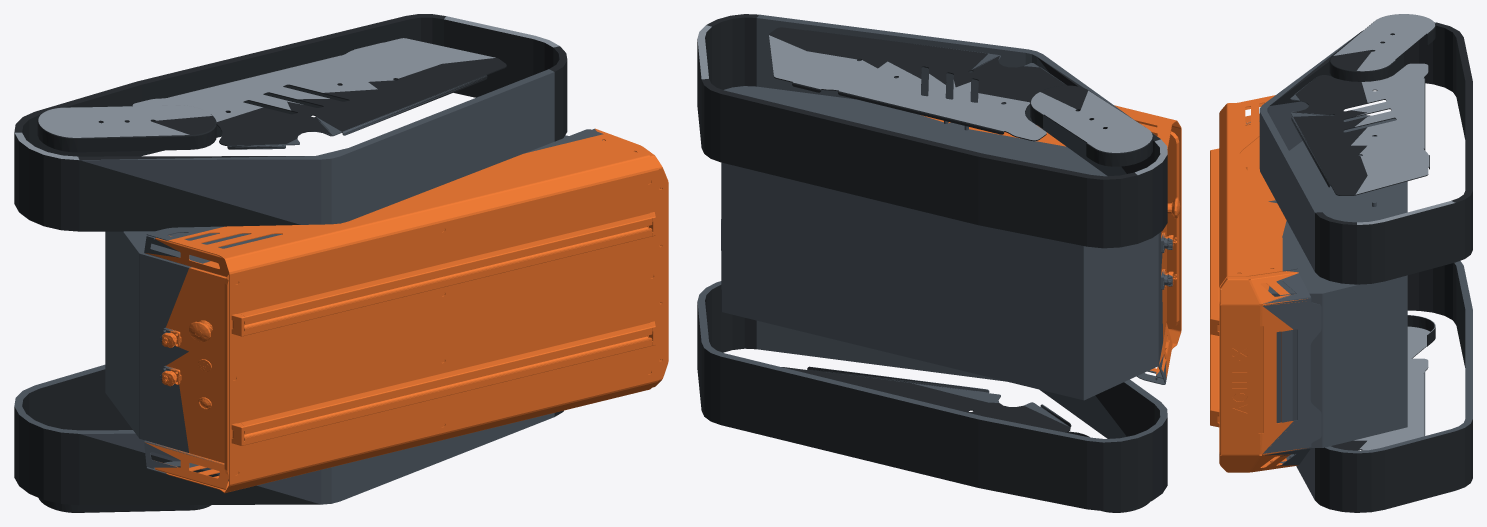
The model's file is bunker_chassis.glb.
3 views of the same model, side by side, from view 1: azimuth 30°, elevation 25°; view 2: azimuth 150°, elevation 25°; view 3: azimuth 270°, elevation 25° (orthographic). The views are drawn at different scales.
Parts seen in each view (by area): view 1: bunker_chassis; view 2: bunker_chassis; view 3: bunker_chassis.
Boxes of the visible parts, x1,y1,x2,y2 form: bunker_chassis: [14, 14, 668, 512]; bunker_chassis: [697, 14, 1181, 512]; bunker_chassis: [1210, 14, 1472, 512].
Size of the model in its own units: 1.05 by 0.71 by 0.54.
